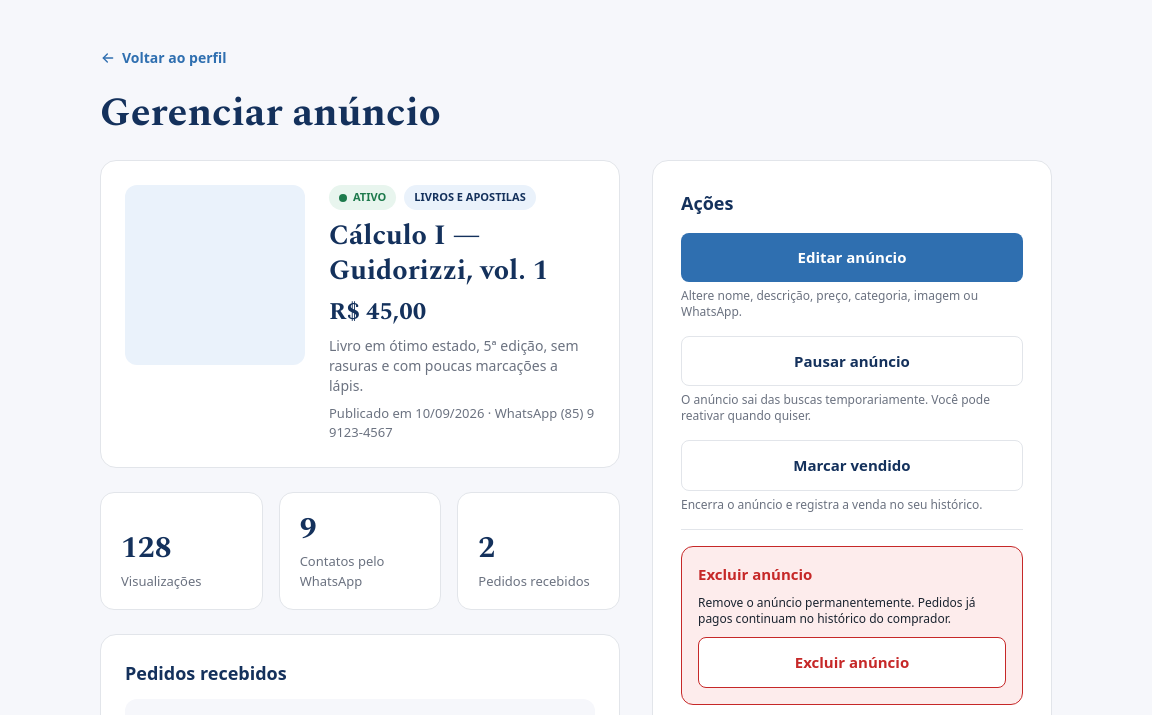
Scenario: Gerenciar anúncio (05d) › pausar muda o selo e o botão vira "Reativar anúncio"
Click the button "Pausar anúncio".
click(852, 361)  # box [681,336,1023,386]
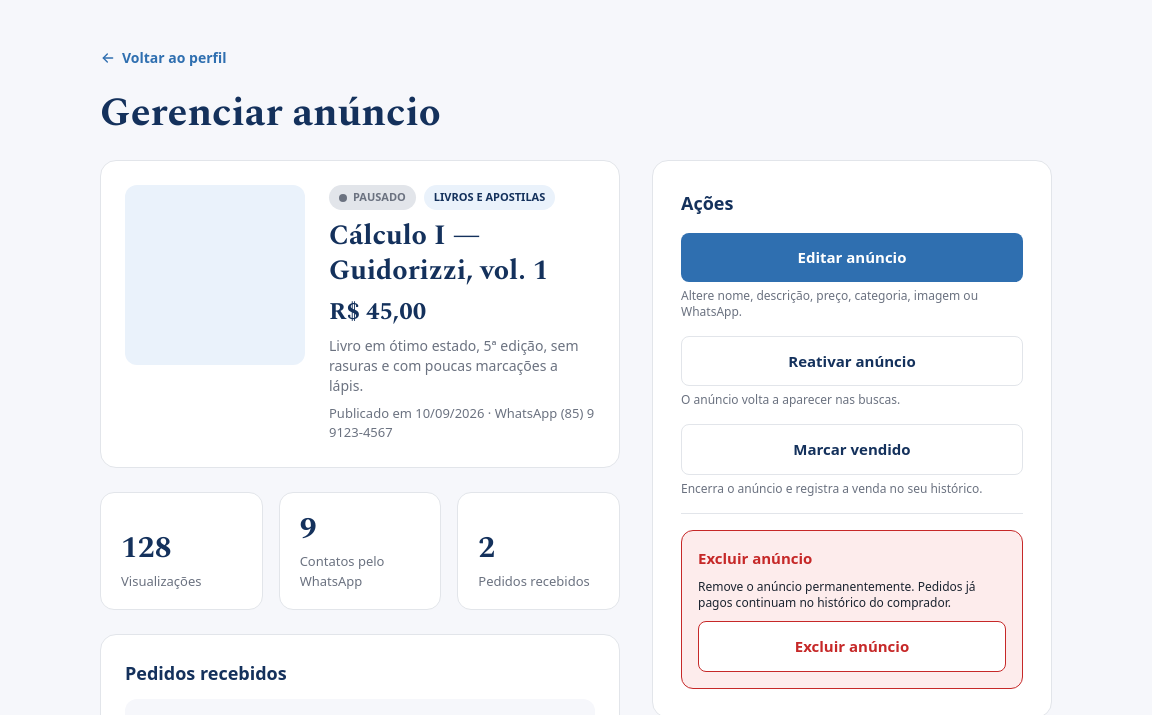
Result: the button "Reativar anúncio" is shown at [681,336,1023,386]
Result: the text "Pausado" is shown at [329,185,416,210]
Result: the button "Pausar anúncio" is gone
